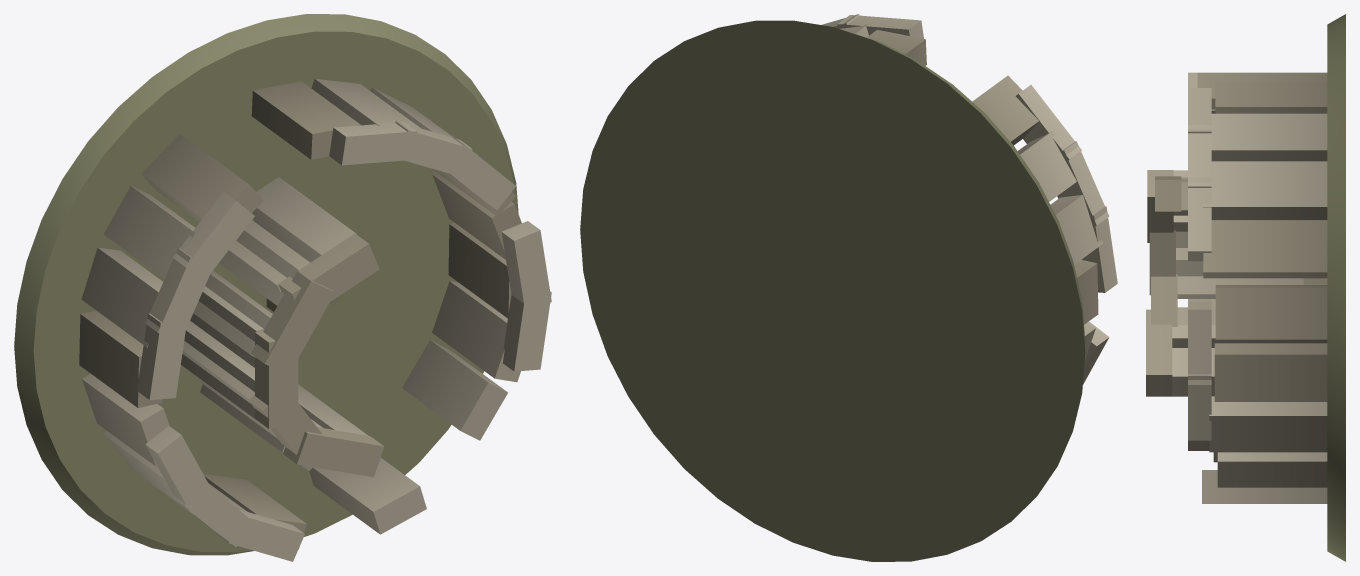
The model's file is stonehenge.glb.
3 renders of one model, left to right at view 1: azimuth 30°, elevation 25°; view 2: azimuth 150°, elevation 25°; view 3: azimuth 270°, elevation 25°, orthographic. The views are drawn at different scales.
Parts seen in each view (by area): view 1: part-grass, part-sarsen, part-sarsenShade; view 2: part-grass, part-sarsen, part-sarsenShade; view 3: part-sarsen, part-sarsenShade, part-grass.
Boxes of the visible parts, bbox=[...] form: part-grass: bbox=[14, 14, 518, 555]; part-sarsen: bbox=[81, 78, 551, 561]; part-sarsenShade: bbox=[79, 81, 521, 549]; part-grass: bbox=[580, 20, 1085, 561]; part-sarsen: bbox=[822, 14, 1117, 384]; part-sarsenShade: bbox=[866, 30, 1098, 324]; part-sarsen: bbox=[1172, 72, 1327, 503]; part-sarsenShade: bbox=[1146, 72, 1327, 462]; part-grass: bbox=[1327, 14, 1345, 561].
Bounding box in the file's own units: 1.04 × 1.04 × 0.3788.
